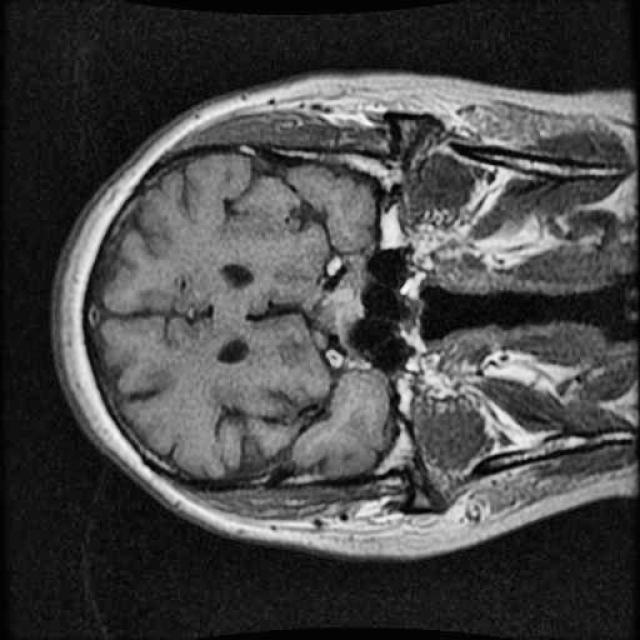Tumor: (314, 249, 375, 342)
